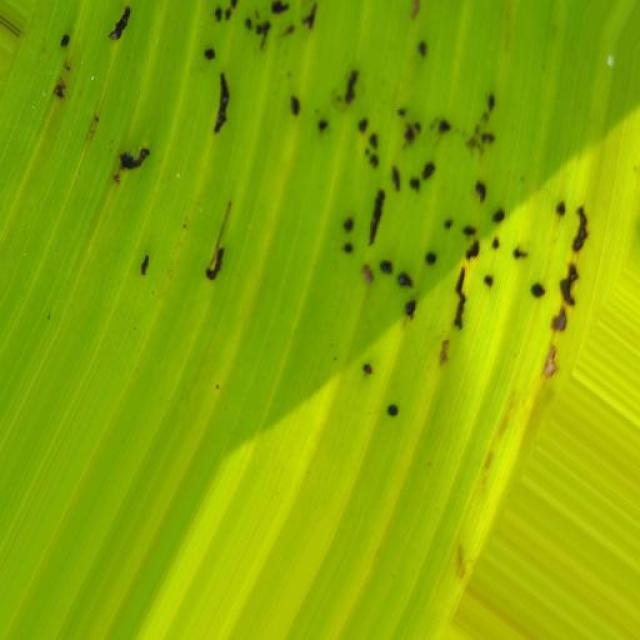Black_rot: (3, 8, 640, 439)
